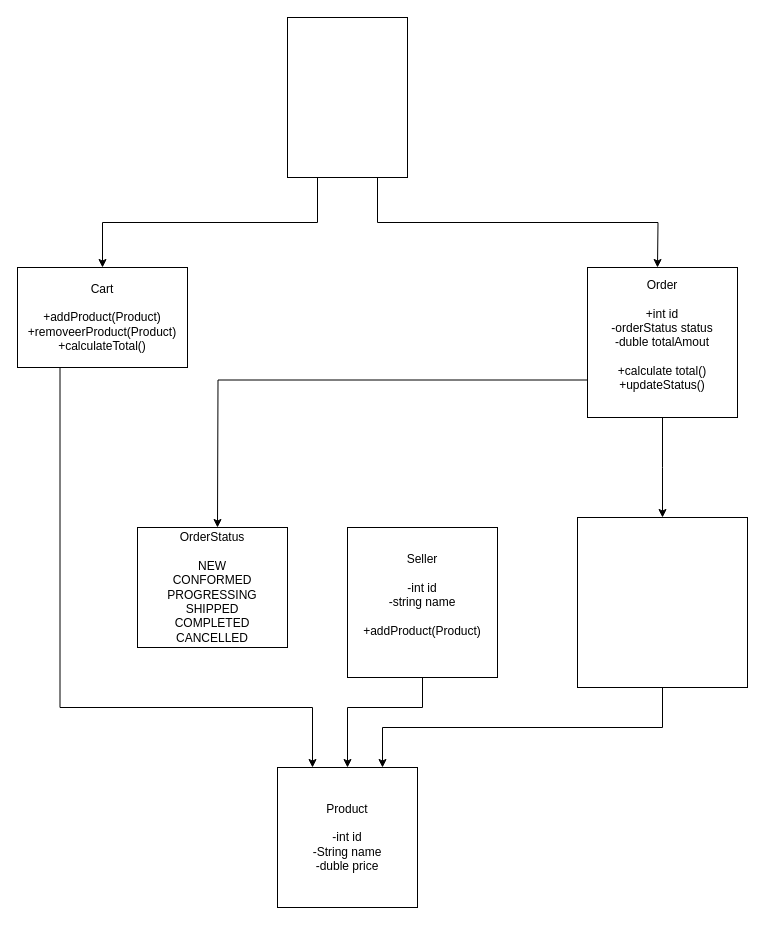
This 765x925 diagram has some shape labels left out. Here are the shapes that lost their labels. From the top down, the box of each, then its label:
(286, 16, 408, 178): Customer -int id -String name +checkout()
(576, 516, 748, 688): Orderitem -Product product -int quantity -double price
